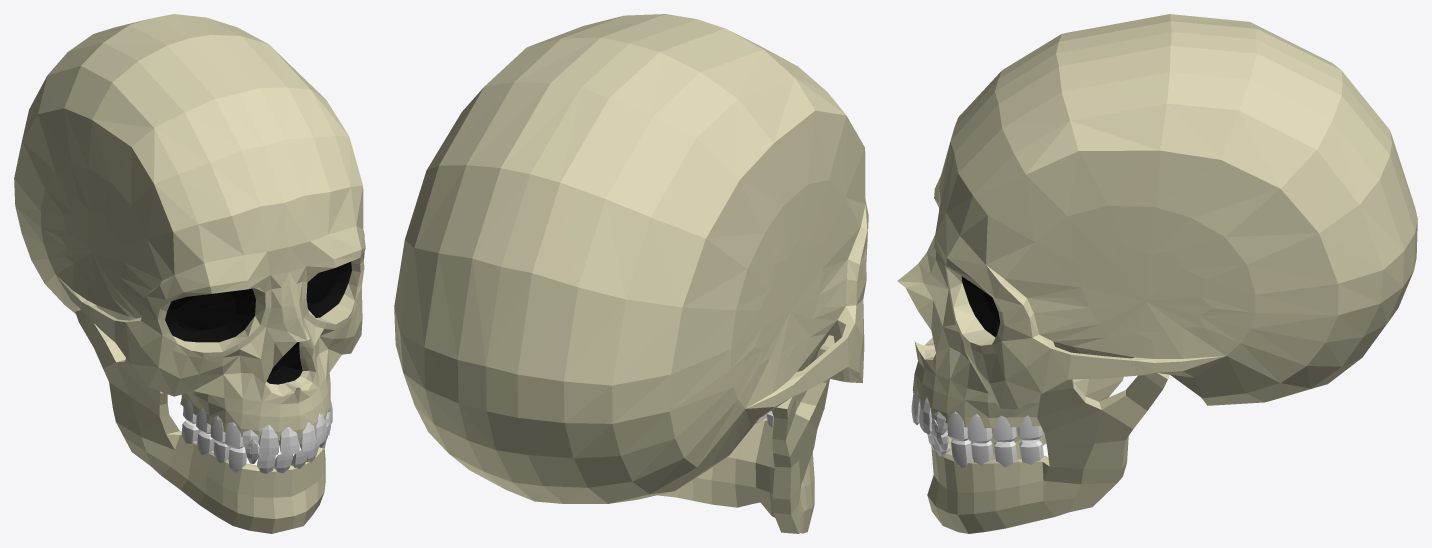
The model's file is Skull.fbx.
3 renders of one model, left to right at view 1: azimuth 30°, elevation 25°; view 2: azimuth 150°, elevation 25°; view 3: azimuth 270°, elevation 25°, orthographic. The views are drawn at different scales.
Visible parts, largest first — view 1: Skull, Lower_Jaw; view 2: Skull, Lower_Jaw; view 3: Skull, Lower_Jaw.
Boxes of the visible parts, box(x1,y1,x2,y2) form: Skull: box(14, 14, 365, 456); Lower_Jaw: box(75, 310, 330, 533); Skull: box(394, 14, 868, 503); Lower_Jaw: box(658, 335, 834, 533); Skull: box(897, 14, 1417, 443); Lower_Jaw: box(927, 372, 1169, 533).
Bounding box in the file's own units: 11.39 × 18.85 × 19.37.
